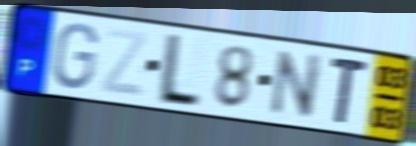8: (213, 43, 256, 111)
G: (50, 21, 100, 92)
L: (153, 31, 204, 110)
N: (266, 47, 326, 121)
T: (328, 54, 371, 128)
Z: (98, 25, 152, 101)
